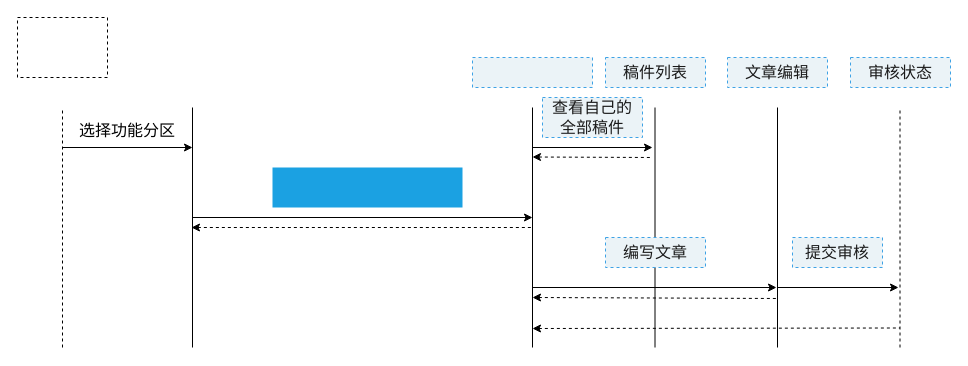
Some shapes in this 968 by 366 pixel diagram are drawn without their labels. The box of each missing label's shape, as (x1, y1, x2, y2) in pixels:
发布管理模块: (472, 56, 592, 88)
查看、管理自己的稿件: (272, 167, 462, 207)
用户登录: (16, 16, 108, 78)
